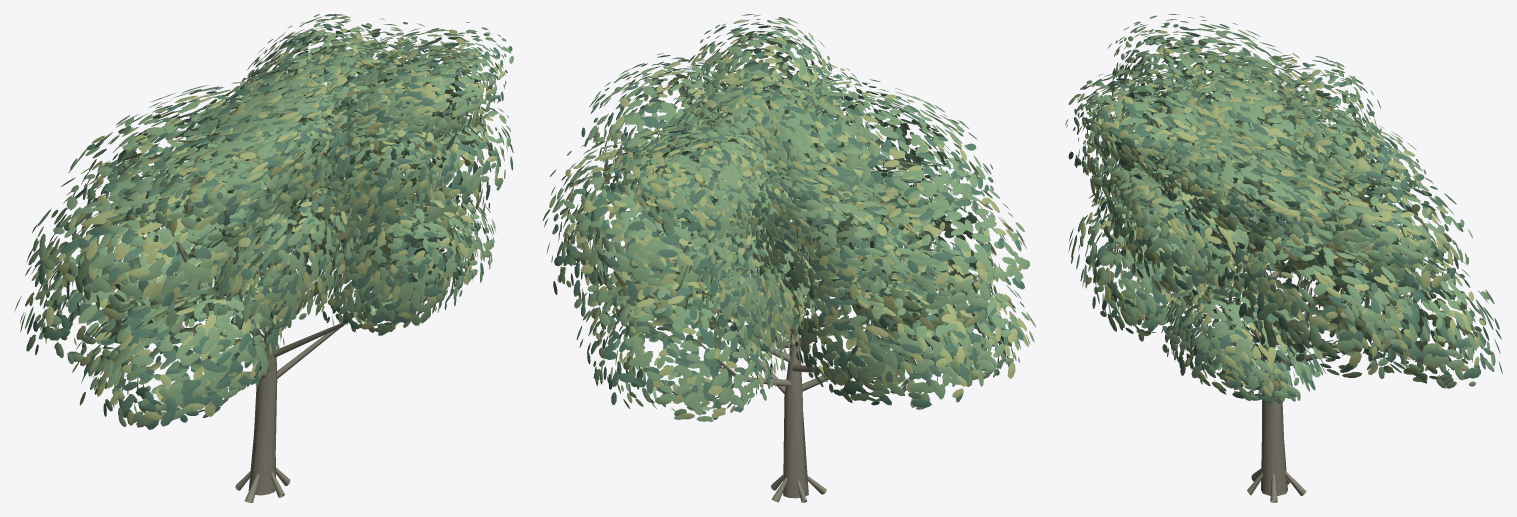
The model's file is grove_3.glb.
3 renders of one model, left to right at view 1: azimuth 30°, elevation 25°; view 2: azimuth 150°, elevation 25°; view 3: azimuth 270°, elevation 25°, orthographic. The views are drawn at different scales.
Parts seen in each view (by area): view 1: study_canopy_0_StudyLeafJade, study_canopy_0_StudyLeafDeep, study_canopy_0_StudyLeafGold, study_canopy_0_StudyBark; view 2: study_canopy_0_StudyLeafJade, study_canopy_0_StudyLeafDeep, study_canopy_0_StudyLeafGold, study_canopy_0_StudyBark; view 3: study_canopy_0_StudyLeafJade, study_canopy_0_StudyLeafDeep, study_canopy_0_StudyLeafGold, study_canopy_0_StudyBark.
Boxes of the visible parts, box(x1,y1,x2,y2) form: study_canopy_0_StudyLeafJade: box(14, 14, 513, 427); study_canopy_0_StudyLeafDeep: box(27, 14, 513, 429); study_canopy_0_StudyLeafGold: box(20, 16, 506, 425); study_canopy_0_StudyBark: box(168, 107, 418, 502); study_canopy_0_StudyLeafJade: box(544, 14, 1035, 421); study_canopy_0_StudyLeafDeep: box(542, 18, 1024, 419); study_canopy_0_StudyLeafGold: box(546, 19, 1030, 421); study_canopy_0_StudyBark: box(666, 87, 929, 502); study_canopy_0_StudyLeafJade: box(1065, 15, 1495, 401); study_canopy_0_StudyLeafDeep: box(1068, 14, 1502, 403); study_canopy_0_StudyLeafGold: box(1071, 17, 1495, 396); study_canopy_0_StudyBark: box(1153, 124, 1396, 502).
Size of the model in its own units: 12.84 by 11.55 by 9.88.
